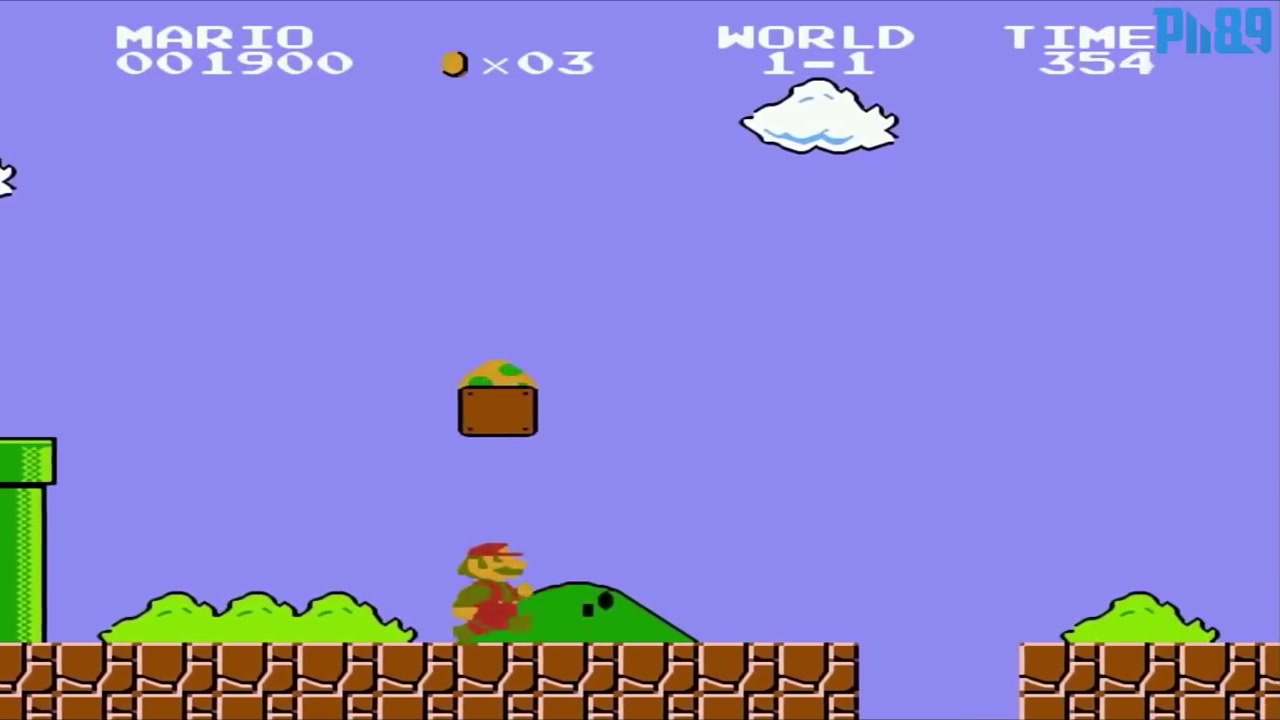mario: (436, 536, 542, 641)
